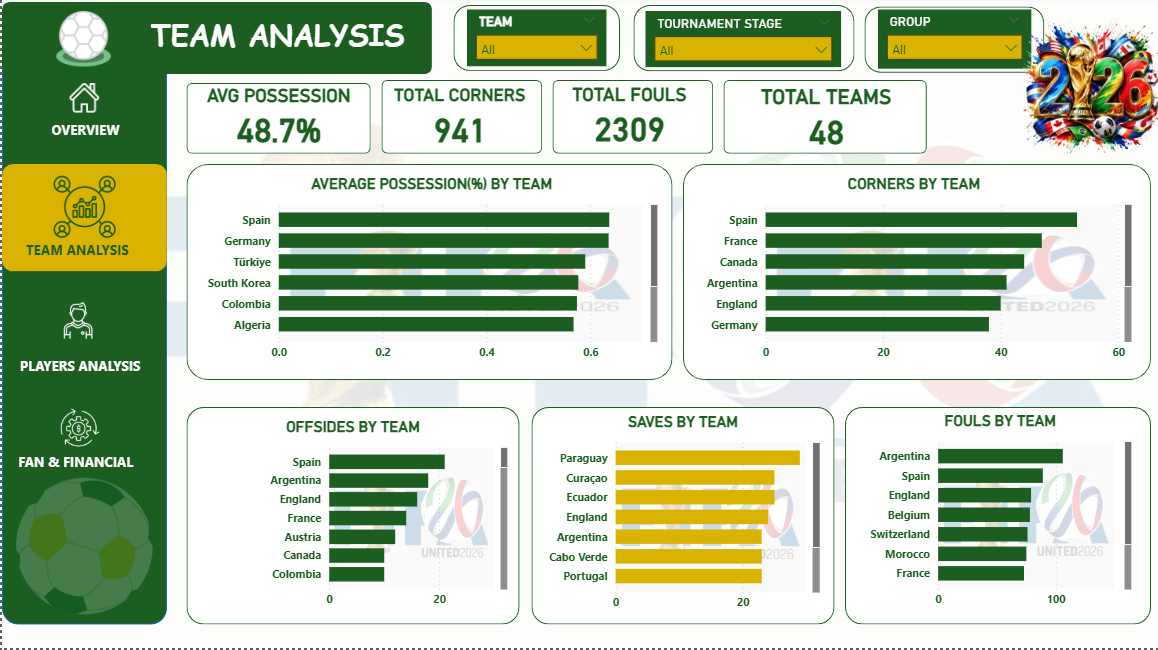

Layout of this report page (visuals, bound fields, positions):
{"tool":"powerbi","page":{"name":"Team Analysis","canvas":[1280,720],"ordinal":1},"visuals":[{"type":"shape","box":[0,63.4,182.2,631.1],"z":1000},{"type":"shape","box":[0,6.5,475,79.7],"z":2000},{"type":"textbox","box":[159,14.9,316.4,67.9],"z":3000},{"type":"shape","box":[203.7,185.5,536.7,238.5],"z":4000},{"type":"clusteredBarChart","title":"AVERAGE POSSESSION(%) BY TEAM","fields":{"Category":["Dim_Teams.team_name"],"Y":["Measures (2).Average Possession"]},"box":[220.3,197.1,508.5,213.7],"z":5000},{"type":"shape","box":[752,185.5,516.8,238.5],"z":6000},{"type":"clusteredBarChart","title":"CORNERS BY TEAM","fields":{"Category":["Dim_Teams.team_name"],"Y":["Measures (2).Total Corners"]},"box":[762,197.1,490.3,213.7],"z":7000},{"type":"shape","box":[203.7,453.9,367.7,240.2],"z":8000},{"type":"clusteredBarChart","title":"OFFSIDES BY TEAM","fields":{"Category":["Dim_Teams.team_name"],"Y":["Measures (2).Total Offsides"]},"box":[212,465.5,351.2,218.7],"z":9000},{"type":"shape","box":[930.9,453.9,337.9,240.2],"z":10000},{"type":"shape","box":[584.7,453.9,334.6,240.2],"z":11000},{"type":"clusteredBarChart","title":"SAVES BY TEAM","fields":{"Category":["Dim_Teams.team_name"],"Y":["Measures (2).Total Saves"]},"box":[596.3,460.5,311.4,226.9],"z":12000},{"type":"clusteredBarChart","title":"FOULS BY TEAM","fields":{"Category":["Dim_Teams.team_name"],"Y":["Measures (2).Total Fouls"]},"box":[952.5,458.8,299.8,225.3],"z":13000},{"type":"shape","box":[203.3,96,203.3,78.1],"z":14000},{"type":"card","title":"AVG POSSESSION","fields":{"Values":["Measures (2).Average Possession"]},"box":[211.5,97.6,187.1,71.6],"z":15000},{"type":"shape","box":[419.6,92.7,177.3,81.3],"z":16000},{"type":"shape","box":[608.3,92.7,177.3,81.3],"z":17000},{"type":"shape","box":[797,92.7,224.5,81.3],"z":18000},{"type":"card","title":"TOTAL CORNERS","fields":{"Values":["Measures (2).Total Corners"]},"box":[427.8,97.6,156.1,73.2],"z":19000},{"type":"card","title":"TOTAL FOULS","fields":{"Values":["Measures (2).Total Fouls"]},"box":[624.6,96,136.6,73.2],"z":20000},{"type":"card","title":"TOTAL TEAMS","fields":{"Values":["Measures (2).Total Teams"]},"box":[810,97.6,200.1,73.2],"z":21000},{"type":"shape","box":[498.6,9.9,183.9,72.9],"z":22000},{"type":"shape","box":[697.8,9.8,244,73.2],"z":23000},{"type":"shape","box":[953.2,11.4,198.4,73.2],"z":24000},{"type":"slicer","title":"GROUP","fields":{"Values":["Dim_Teams.group_letter"]},"box":[967.8,14.6,169.2,65.1],"z":25000},{"type":"slicer","title":"TOURNAMENT STAGE","fields":{"Values":["Dim_TournamentStages.stage_name"]},"box":[710.8,16.3,216.3,61.8],"z":26000},{"type":"slicer","title":"TEAM","fields":{"Values":["Dim_Teams.team_name"]},"box":[513.5,14.9,154.1,62.9],"z":27000},{"type":"image","box":[1123.9,16.3,156.1,169.2],"z":28000},{"type":"shape","box":[0,185.4,182.2,118.7],"z":29000},{"type":"image","box":[68.3,96,45.5,32.5],"z":30000},{"type":"textbox","box":[50.4,131.8,104.1,45.5],"z":31000},{"type":"image","box":[11.4,196.8,159.4,71.6],"z":32000},{"type":"textbox","box":[21.1,265.1,138.3,39],"z":33000},{"type":"textbox","box":[14.6,392,152.9,32.5],"z":34000},{"type":"image","box":[34.2,453.8,102.5,45.5],"z":35000},{"type":"textbox","box":[13,499.3,156.1,32.5],"z":36000},{"type":"image","box":[13.3,16.6,154.1,61.3],"z":37000},{"type":"image","box":[0,531.9,182.2,151.3],"z":38000},{"type":"image","box":[50.4,338.3,68.3,40.7],"z":39000}]}

Visuals, with their boxes in screenshot pixels (x1, y1, x2, y2), scaled from the page's 1280x720 canvas onto the 1158x650 screenshot:
shape: (x1=0, y1=57, x2=165, y2=627)
shape: (x1=0, y1=6, x2=430, y2=78)
textbox: (x1=144, y1=13, x2=430, y2=75)
shape: (x1=184, y1=167, x2=670, y2=383)
"AVERAGE POSSESSION(%) BY TEAM" clusteredBarChart: (x1=199, y1=178, x2=659, y2=371)
shape: (x1=680, y1=167, x2=1148, y2=383)
"CORNERS BY TEAM" clusteredBarChart: (x1=689, y1=178, x2=1133, y2=371)
shape: (x1=184, y1=410, x2=517, y2=627)
"OFFSIDES BY TEAM" clusteredBarChart: (x1=192, y1=420, x2=510, y2=618)
shape: (x1=842, y1=410, x2=1148, y2=627)
shape: (x1=529, y1=410, x2=832, y2=627)
"SAVES BY TEAM" clusteredBarChart: (x1=539, y1=416, x2=821, y2=621)
"FOULS BY TEAM" clusteredBarChart: (x1=862, y1=414, x2=1133, y2=618)
shape: (x1=184, y1=87, x2=368, y2=157)
"AVG POSSESSION" card: (x1=191, y1=88, x2=361, y2=153)
shape: (x1=380, y1=84, x2=540, y2=157)
shape: (x1=550, y1=84, x2=711, y2=157)
shape: (x1=721, y1=84, x2=924, y2=157)
"TOTAL CORNERS" card: (x1=387, y1=88, x2=528, y2=154)
"TOTAL FOULS" card: (x1=565, y1=87, x2=689, y2=153)
"TOTAL TEAMS" card: (x1=733, y1=88, x2=914, y2=154)
shape: (x1=451, y1=9, x2=617, y2=75)
shape: (x1=631, y1=9, x2=852, y2=75)
shape: (x1=862, y1=10, x2=1042, y2=76)
"GROUP" slicer: (x1=876, y1=13, x2=1029, y2=72)
"TOURNAMENT STAGE" slicer: (x1=643, y1=15, x2=839, y2=71)
"TEAM" slicer: (x1=465, y1=13, x2=604, y2=70)
image: (x1=1017, y1=15, x2=1157, y2=167)
shape: (x1=0, y1=167, x2=165, y2=275)
image: (x1=62, y1=87, x2=103, y2=116)
textbox: (x1=46, y1=119, x2=140, y2=160)
image: (x1=10, y1=178, x2=155, y2=242)
textbox: (x1=19, y1=239, x2=144, y2=275)
textbox: (x1=13, y1=354, x2=152, y2=383)
image: (x1=31, y1=410, x2=124, y2=451)
textbox: (x1=12, y1=451, x2=153, y2=480)
image: (x1=12, y1=15, x2=151, y2=70)
image: (x1=0, y1=480, x2=165, y2=617)
image: (x1=46, y1=305, x2=107, y2=342)
